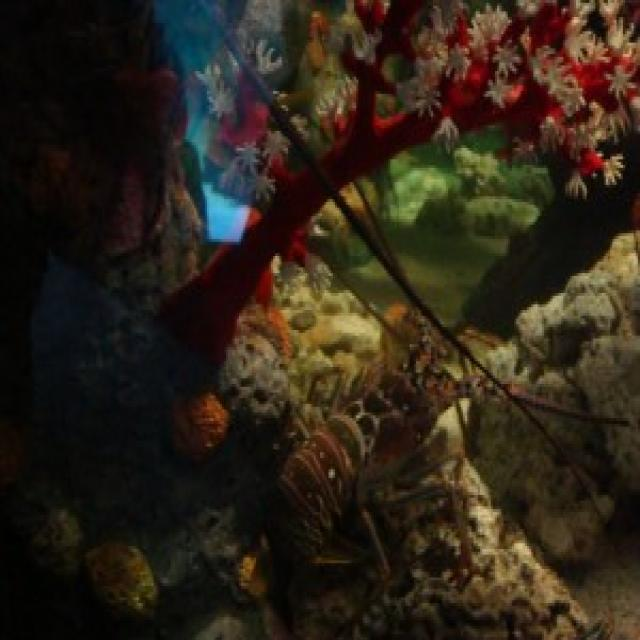lobsters: (176, 250, 503, 612)
